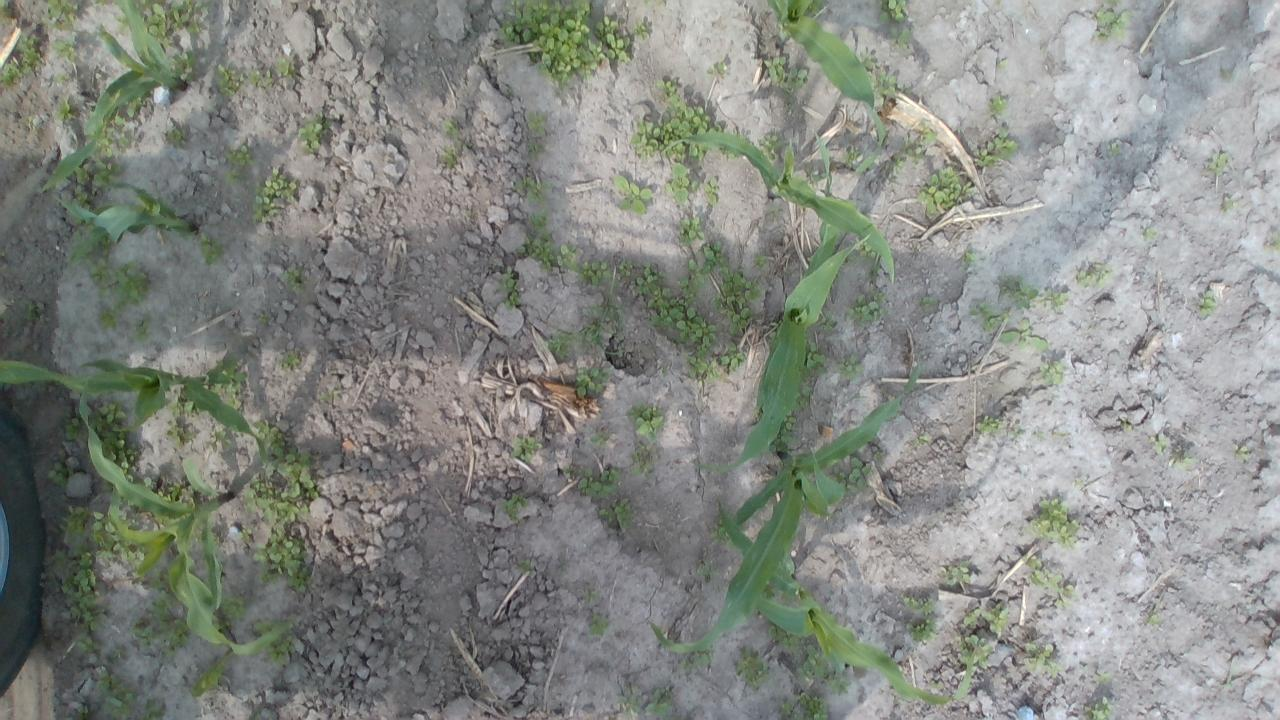Maize: (648, 361, 922, 653), (77, 392, 291, 702), (672, 84, 841, 440), (718, 500, 978, 712), (660, 132, 898, 281), (0, 355, 269, 469), (40, 0, 187, 198), (770, 0, 886, 174), (55, 176, 194, 270)
Weeds: (494, 0, 606, 89), (630, 95, 722, 161), (48, 547, 102, 654), (59, 502, 144, 564), (254, 418, 318, 500), (646, 286, 720, 348), (129, 590, 192, 659), (254, 524, 314, 594), (88, 398, 138, 471), (134, 0, 208, 48), (712, 270, 762, 336), (242, 476, 310, 524), (916, 166, 974, 218), (248, 168, 296, 227), (1028, 496, 1079, 548), (94, 110, 129, 184), (200, 360, 248, 412), (517, 207, 555, 272), (546, 321, 604, 359), (96, 667, 136, 720), (78, 236, 112, 296), (972, 126, 1019, 168), (593, 14, 632, 64), (612, 174, 654, 217), (112, 262, 153, 306), (828, 456, 872, 496), (764, 55, 808, 95), (619, 684, 673, 716), (70, 161, 97, 224), (1092, 0, 1132, 42), (996, 318, 1048, 350), (628, 400, 665, 444), (254, 620, 290, 665), (794, 640, 829, 686), (577, 466, 622, 500), (956, 633, 995, 672), (734, 648, 770, 690), (845, 288, 888, 322), (664, 162, 698, 204), (1022, 551, 1060, 588), (996, 278, 1039, 310), (781, 692, 830, 720), (1024, 640, 1062, 676), (213, 588, 245, 630), (493, 266, 521, 312), (769, 409, 798, 453), (592, 498, 634, 528), (582, 295, 625, 324), (576, 260, 618, 289), (48, 450, 79, 489), (686, 348, 720, 382), (213, 64, 246, 98), (678, 260, 711, 294), (969, 302, 1009, 330), (296, 118, 328, 152), (574, 366, 609, 397), (42, 0, 78, 30), (1074, 260, 1112, 288), (156, 478, 194, 505), (167, 48, 197, 82), (509, 433, 544, 462), (516, 176, 552, 204), (702, 238, 729, 275), (768, 622, 801, 652), (799, 342, 828, 376), (133, 564, 169, 591), (497, 492, 528, 523), (197, 231, 225, 265), (868, 67, 898, 98), (634, 262, 663, 294), (162, 420, 195, 448), (677, 215, 705, 247), (680, 646, 716, 670), (128, 313, 154, 346), (906, 618, 939, 644), (14, 31, 38, 66), (910, 130, 936, 162), (278, 267, 306, 296), (981, 606, 1010, 634), (224, 143, 256, 168), (718, 342, 746, 370), (836, 354, 864, 382), (756, 132, 784, 160), (758, 578, 788, 604), (0, 61, 32, 85), (98, 303, 124, 332), (878, 0, 908, 25), (900, 592, 931, 616), (944, 560, 972, 586), (1038, 360, 1065, 386), (791, 377, 811, 411), (52, 38, 79, 63), (630, 446, 654, 474), (60, 413, 83, 441), (140, 695, 165, 720), (1206, 150, 1230, 176), (124, 472, 154, 492), (168, 397, 197, 417), (558, 243, 578, 272), (986, 93, 1010, 117), (587, 612, 610, 637), (1052, 582, 1074, 608), (712, 518, 732, 546), (1042, 287, 1070, 307), (1089, 697, 1113, 720), (1198, 290, 1217, 318), (124, 94, 146, 118), (852, 236, 876, 258), (888, 26, 912, 48), (829, 672, 850, 696), (976, 415, 1002, 434), (1150, 431, 1170, 455), (856, 50, 878, 71), (278, 350, 301, 370), (166, 127, 186, 150), (816, 310, 836, 333), (704, 176, 719, 206), (526, 110, 546, 132), (655, 76, 679, 94), (55, 98, 74, 120), (588, 430, 609, 449), (212, 427, 230, 449), (439, 144, 456, 167), (439, 116, 458, 136), (694, 558, 714, 577), (24, 301, 42, 322), (751, 254, 772, 272), (189, 520, 204, 544), (962, 606, 981, 624), (112, 14, 132, 31), (618, 257, 634, 278), (721, 146, 742, 161), (276, 58, 292, 76), (1143, 227, 1162, 242), (518, 558, 532, 578), (912, 433, 931, 447), (1006, 426, 1024, 440), (319, 388, 341, 399), (632, 21, 650, 34), (1268, 232, 1280, 251), (844, 150, 860, 164), (890, 156, 906, 170), (226, 168, 240, 184), (1106, 141, 1120, 156), (249, 69, 262, 85), (1094, 671, 1110, 684), (869, 257, 882, 273), (1235, 444, 1249, 458), (714, 62, 730, 74), (54, 72, 70, 84), (526, 142, 542, 154), (920, 296, 939, 306), (1222, 197, 1234, 212), (582, 588, 596, 600), (810, 170, 824, 182), (1146, 614, 1160, 626), (964, 250, 978, 262), (238, 528, 250, 541), (1122, 421, 1134, 431), (0, 0, 11, 10), (873, 450, 882, 459), (92, 0, 104, 6), (1038, 432, 1046, 441)
